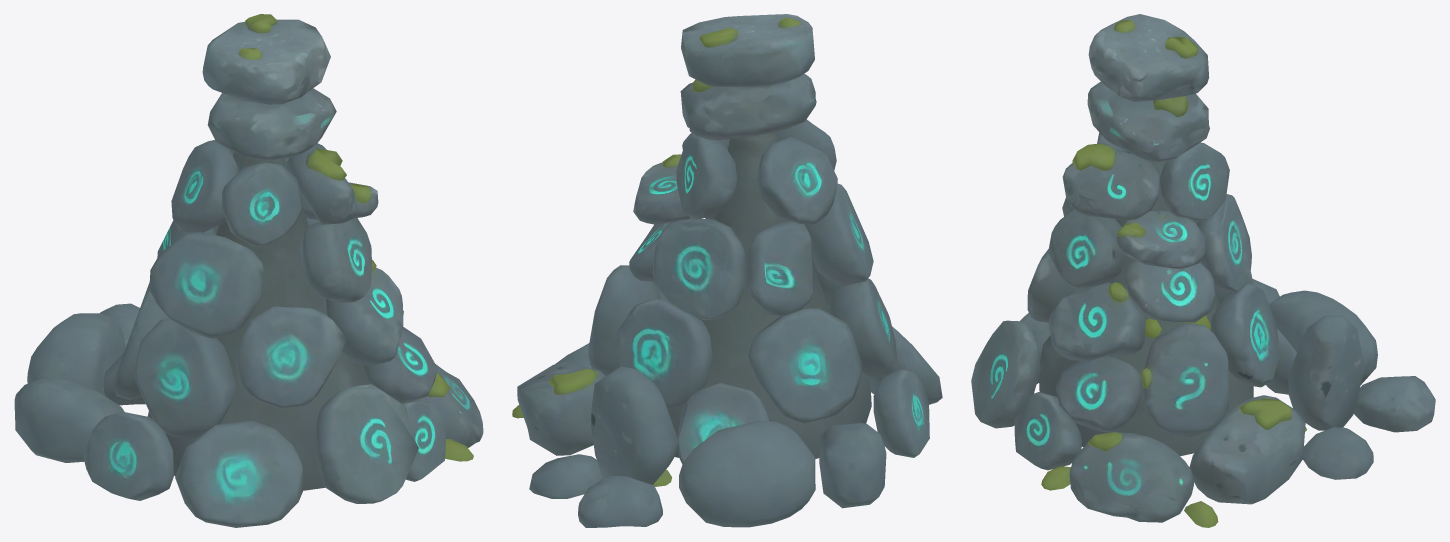
Rendered from cairn_shrine.glb.
3 views of the same model, side by side, from view 1: azimuth 30°, elevation 25°; view 2: azimuth 150°, elevation 25°; view 3: azimuth 270°, elevation 25° (orthographic). The views are drawn at different scales.
Visible parts, largest first — view 1: tripo_node_dca8e05d-80ef-4220-830f-287a62341a49; view 2: tripo_node_dca8e05d-80ef-4220-830f-287a62341a49; view 3: tripo_node_dca8e05d-80ef-4220-830f-287a62341a49.
Part boxes in pixels (x1,y1,x2,y2): tripo_node_dca8e05d-80ef-4220-830f-287a62341a49: [14, 14, 483, 527]; tripo_node_dca8e05d-80ef-4220-830f-287a62341a49: [512, 14, 942, 527]; tripo_node_dca8e05d-80ef-4220-830f-287a62341a49: [971, 14, 1435, 527].
Bounding box in the file's own units: 0.9097 × 0.9429 × 0.9971.
1 material, 1 textured.
